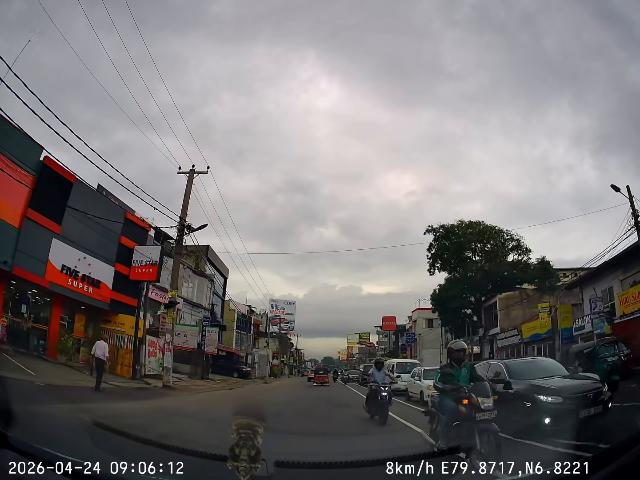illegal overtaking: (420, 336, 513, 468), (361, 354, 402, 424)
